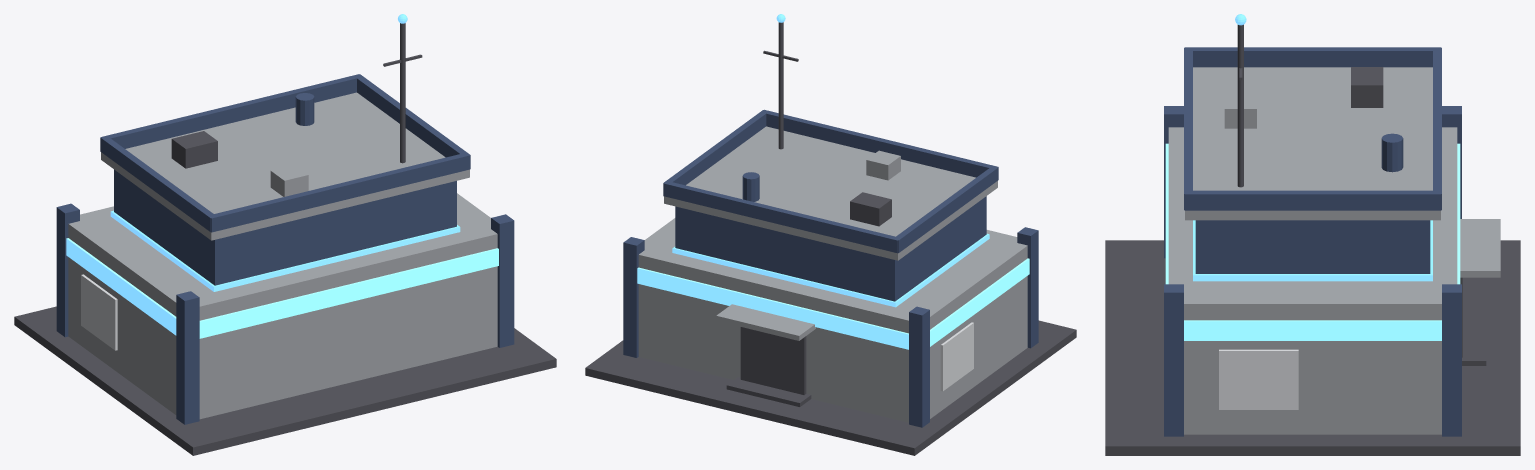
Rendered from us_command_center.glb.
The picture shows the model from 3 angles, left to right: view 1: azimuth 30°, elevation 25°; view 2: azimuth 150°, elevation 25°; view 3: azimuth 270°, elevation 25°; orthographic projection. The views are drawn at different scales.
Visible parts, largest first — view 1: Main, RoofSlab, Pad, MidTier, WinB, ParapetB, ParapetF, Pillar, Strip, Pillar.002, ParapetR, WinR (+7 smaller); view 2: Main, RoofSlab, Pad, MidTier, WinF, ParapetF, Entry, ParapetB, Pillar.001, Strip, Pillar.003, ParapetR (+10 smaller); view 3: Main, Pad, RoofSlab, MidTier, WinL, ParapetL, ParapetR, PanelL, Pillar.002, Pillar.003, Canopy, Strip (+11 smaller).
Boxes of the visible parts, x1,y1,x2,y2 form: Main: (68, 193, 497, 419); RoofSlab: (101, 92, 469, 240); Pad: (14, 306, 556, 455); MidTier: (114, 169, 456, 285); WinB: (199, 248, 498, 338); ParapetB: (208, 154, 470, 232); ParapetF: (101, 74, 362, 148); Pillar: (176, 291, 199, 424); Strip: (110, 210, 460, 291); Pillar.002: (491, 214, 514, 347); ParapetR: (100, 137, 215, 232); WinR: (66, 238, 176, 335); Main: (638, 218, 1027, 422); RoofSlab: (664, 126, 997, 260); Pad: (585, 320, 1076, 455); MidTier: (675, 196, 986, 301); WinF: (637, 267, 908, 349); ParapetF: (663, 181, 900, 253); Entry: (740, 327, 806, 394); ParapetB: (761, 109, 997, 177); Pillar.001: (909, 306, 929, 427); Strip: (672, 233, 989, 307); Pillar.003: (623, 237, 644, 357); ParapetR: (896, 166, 998, 253); Main: (1168, 127, 1457, 434); Pad: (1105, 240, 1520, 455); RoofSlab: (1185, 67, 1440, 220); MidTier: (1195, 220, 1430, 273); WinL: (1184, 320, 1441, 340); ParapetL: (1185, 190, 1440, 210); ParapetR: (1185, 47, 1440, 67); PanelL: (1219, 349, 1298, 409); Pillar.002: (1164, 284, 1183, 436); Pillar.003: (1442, 284, 1461, 436); Canopy: (1460, 219, 1500, 277); Strip: (1193, 220, 1432, 281).
Bounding box in the file's own units: 13.5 × 11.84 × 11.5.
